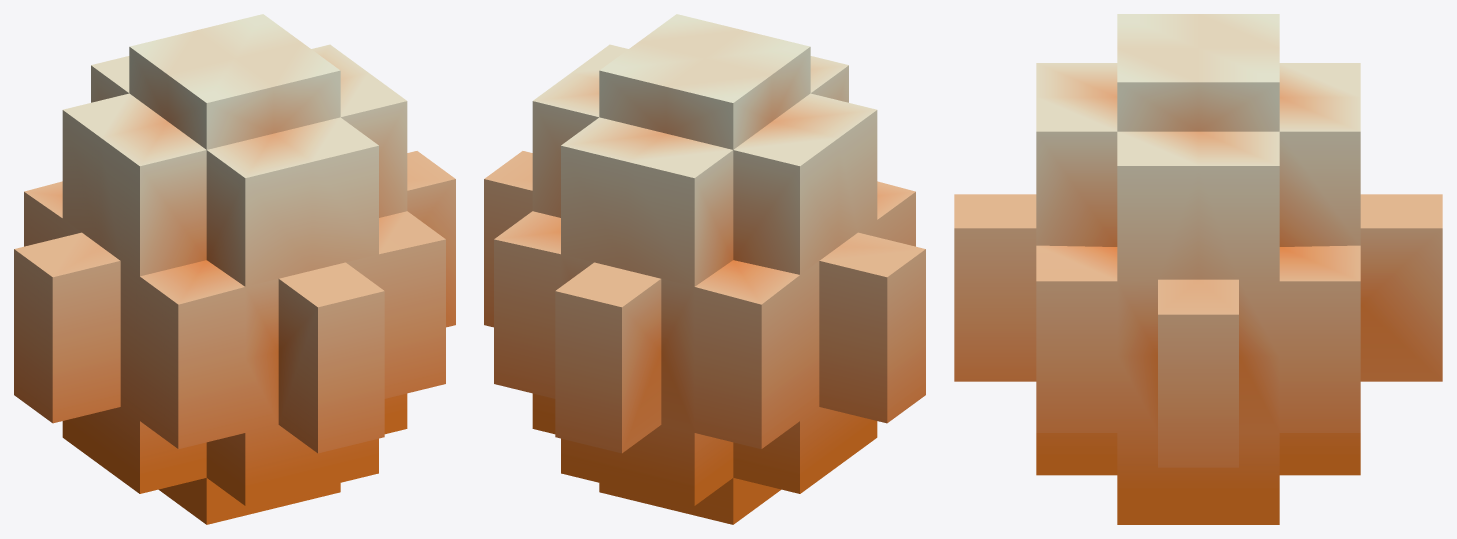
The model's file is Egg Common.fbx.
3 views of the same model, side by side, from view 1: azimuth 30°, elevation 25°; view 2: azimuth 150°, elevation 25°; view 3: azimuth 270°, elevation 25° (orthographic). The views are drawn at different scales.
Parts seen in each view (by area): view 1: Egg Common; view 2: Egg Common; view 3: Egg Common.
Boxes of the visible parts, <box> form: Egg Common: <box>14,14,455,524</box>; Egg Common: <box>484,14,925,524</box>; Egg Common: <box>954,14,1442,524</box>.
Bounding box in the file's own units: 1.07 × 1.07 × 1.07.
